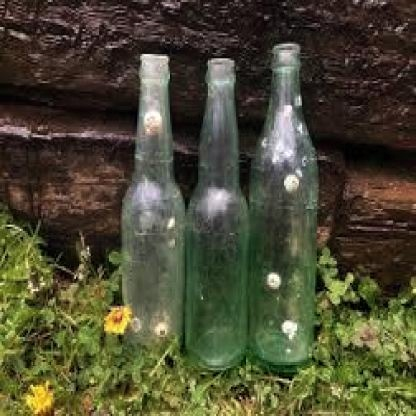gbottle: (248, 44, 315, 364), (119, 52, 186, 360), (188, 58, 249, 370)
